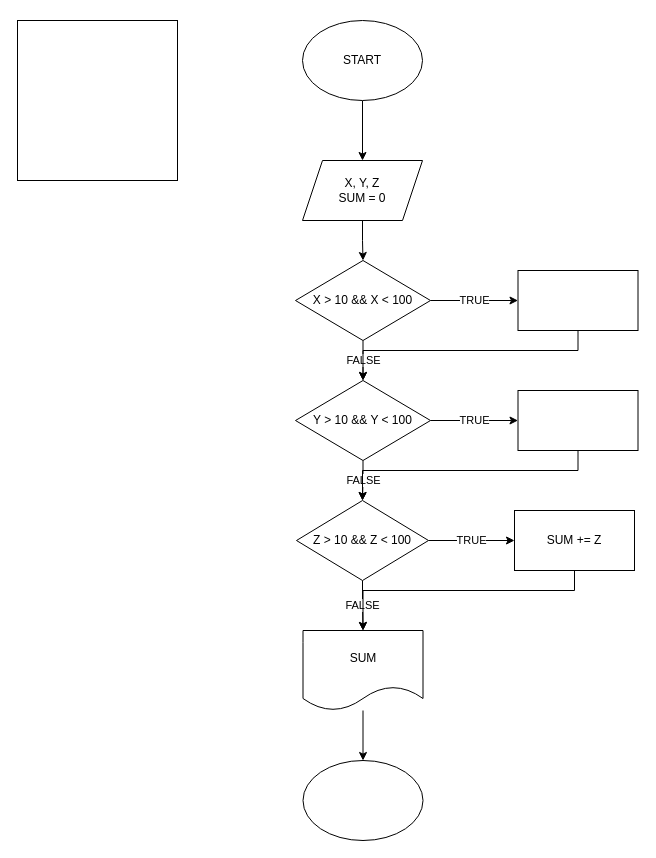
Image size: 656x858. Some labels were removed from this diagram. The box of each missing label's shape, as (x1, y1, x2, y2) in pixels:
END: (302, 760, 423, 840)
SUM += X: (517, 270, 638, 330)
SUM += Y: (517, 390, 638, 450)
Verilmiş 3 ədəddən 10 və 100 aralığında yerləşənlərin cəmini tapan alqoritm: (16, 20, 178, 180)
